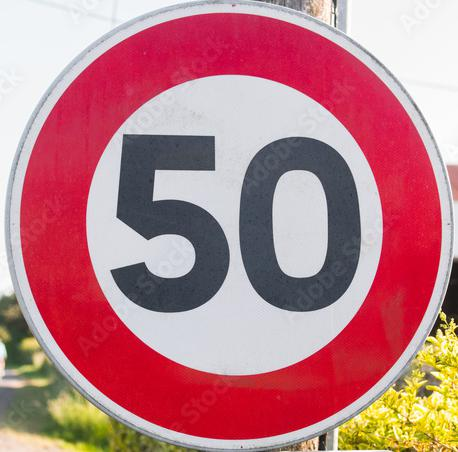Speed Limit -50-: (0, 1, 457, 451)
